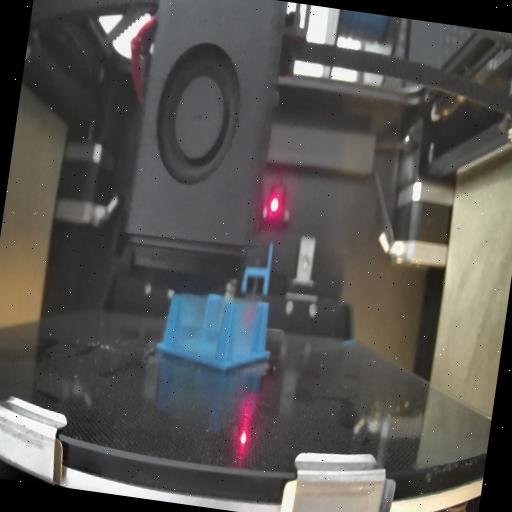stringing: (170, 288, 230, 360), (226, 295, 268, 370)
